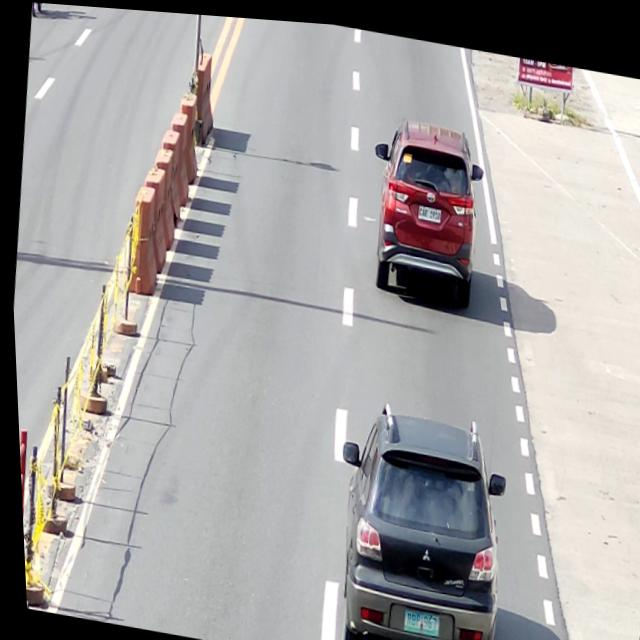Car: (312, 386, 514, 640), (356, 105, 492, 309)
License-Plate: (395, 599, 437, 634), (415, 197, 441, 218)
